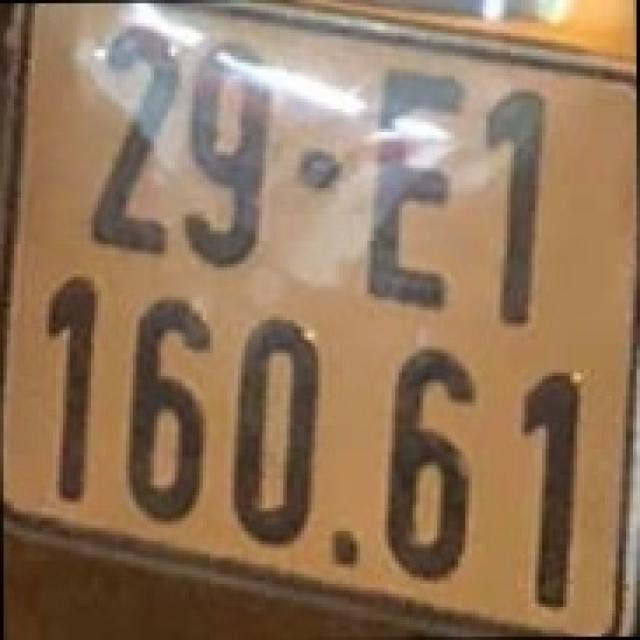0: (226, 314, 327, 548)
1: (512, 360, 596, 614), (476, 81, 556, 328), (36, 268, 106, 512)
2: (82, 20, 180, 257)
6: (378, 342, 482, 582), (122, 294, 214, 524)
9: (178, 35, 276, 269)
E: (360, 63, 465, 313)
